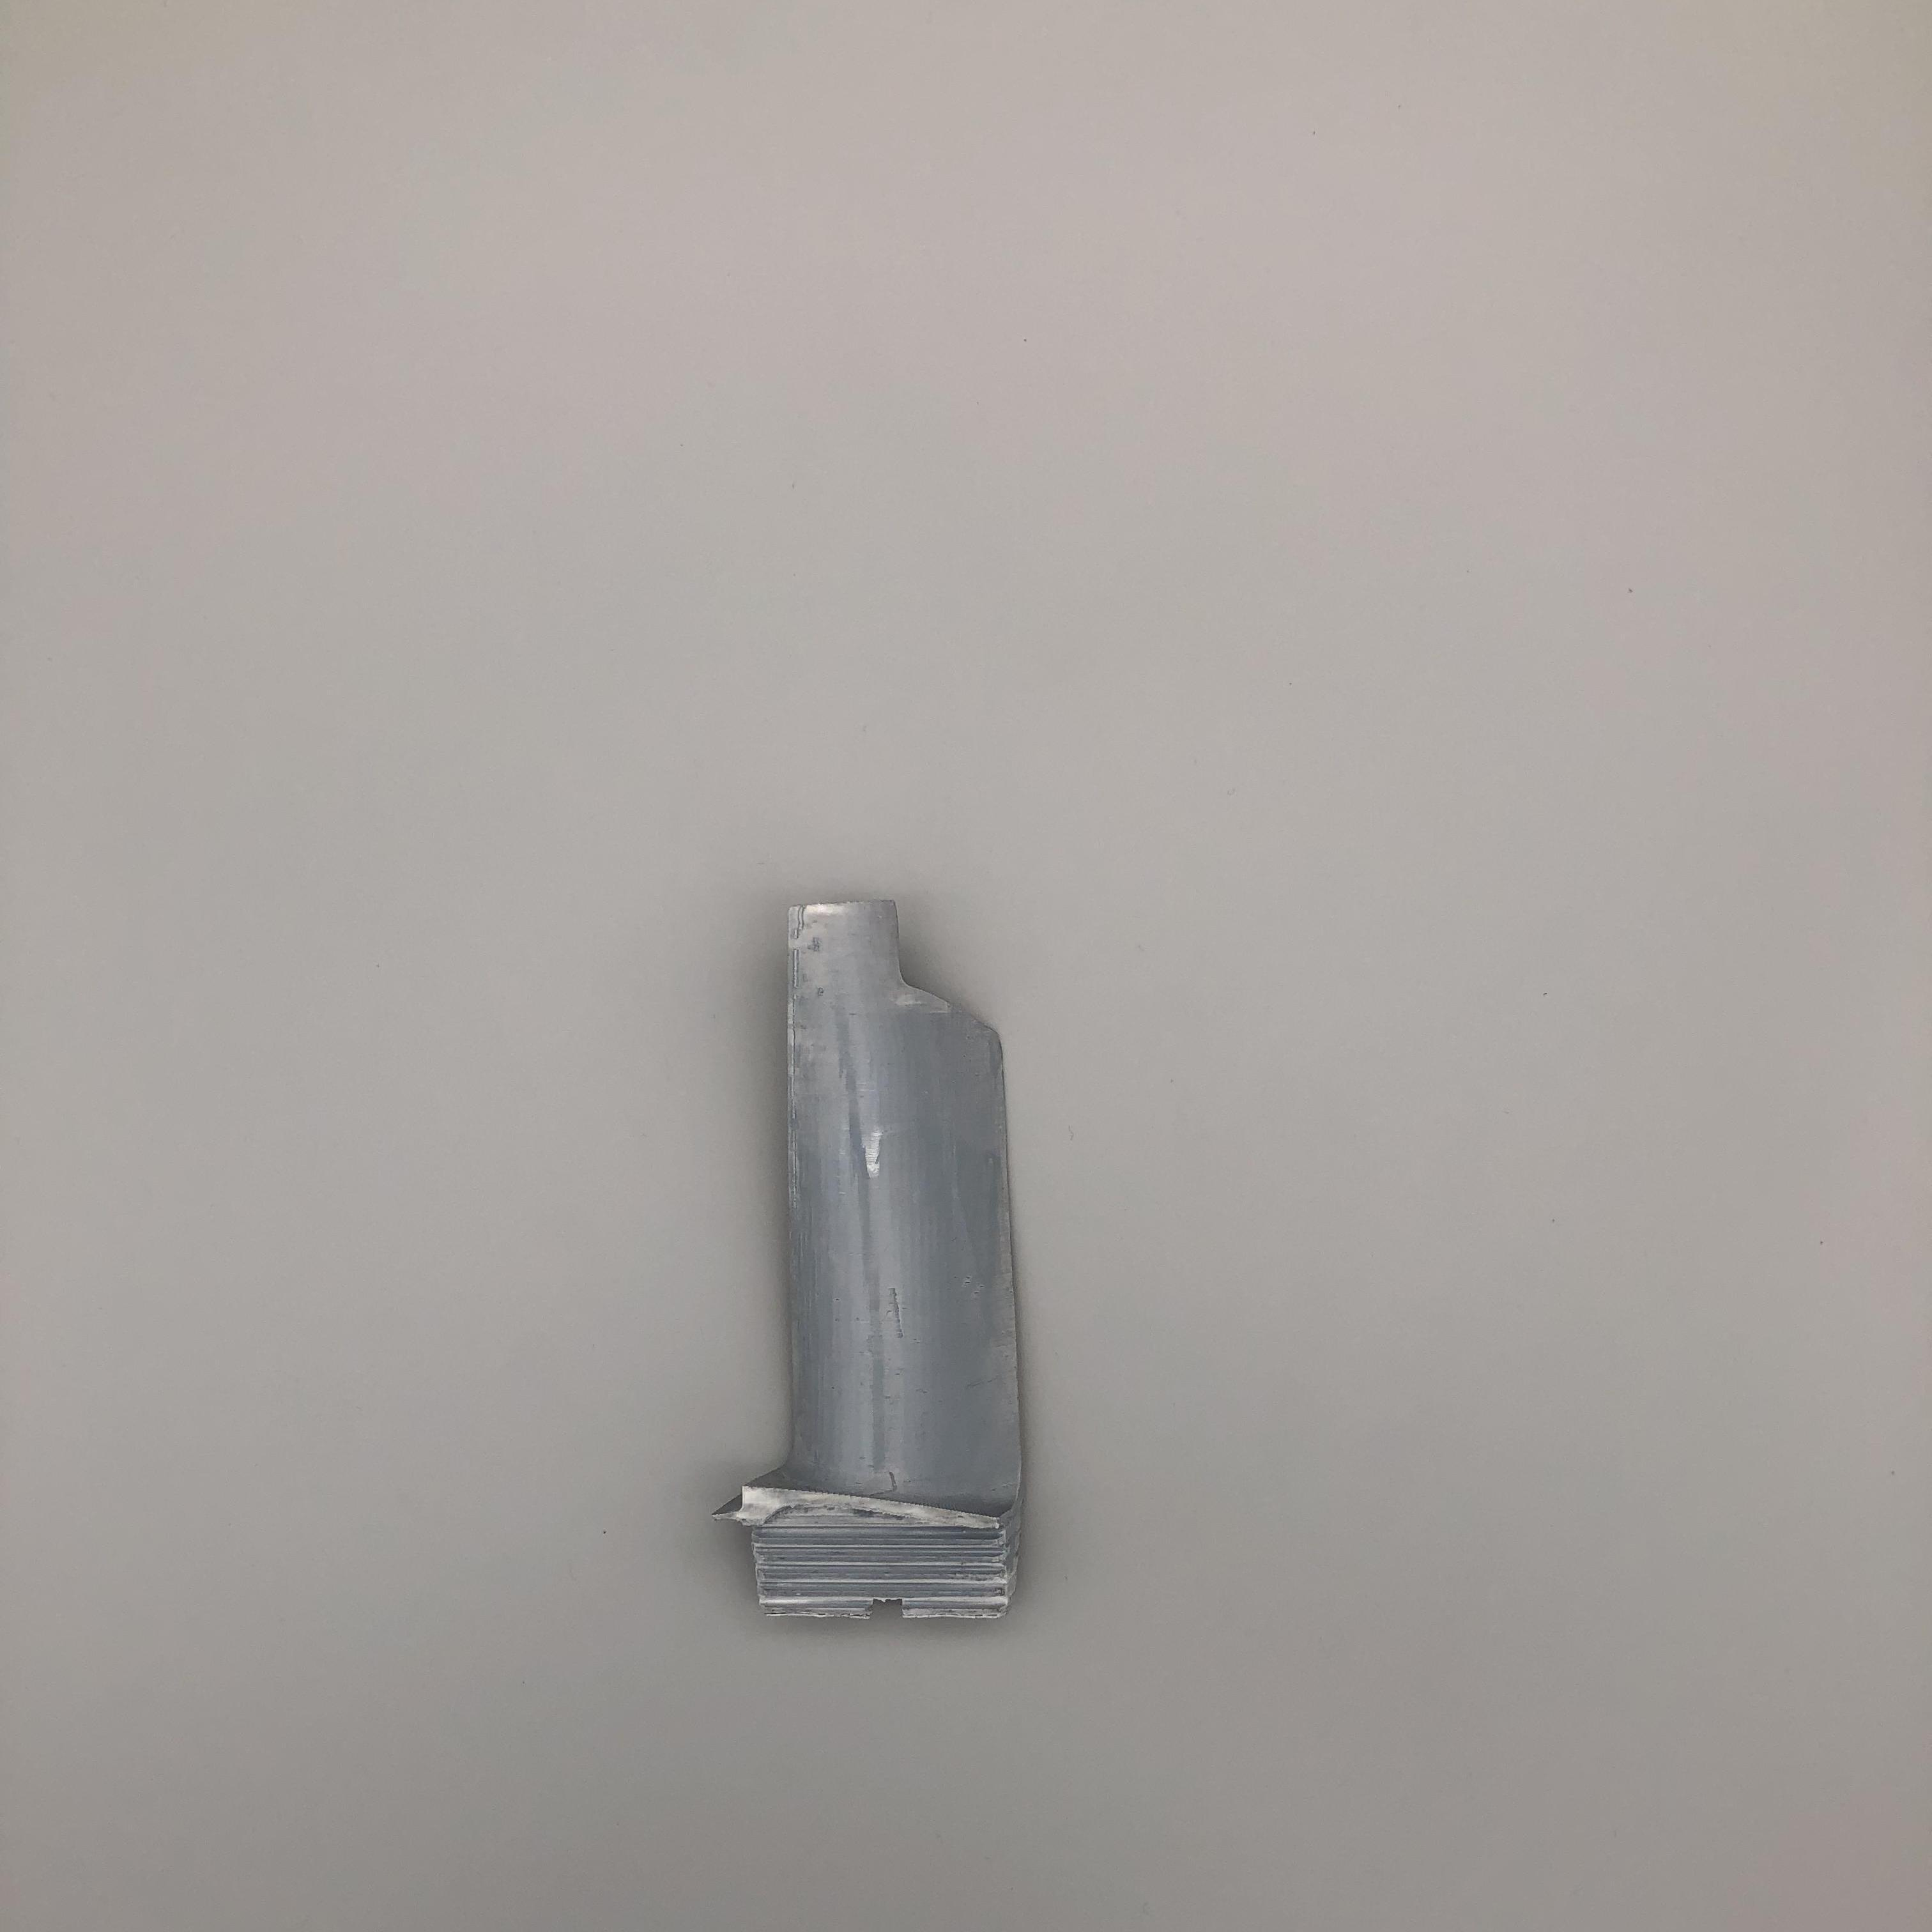fracture: (881, 901, 998, 1051)
